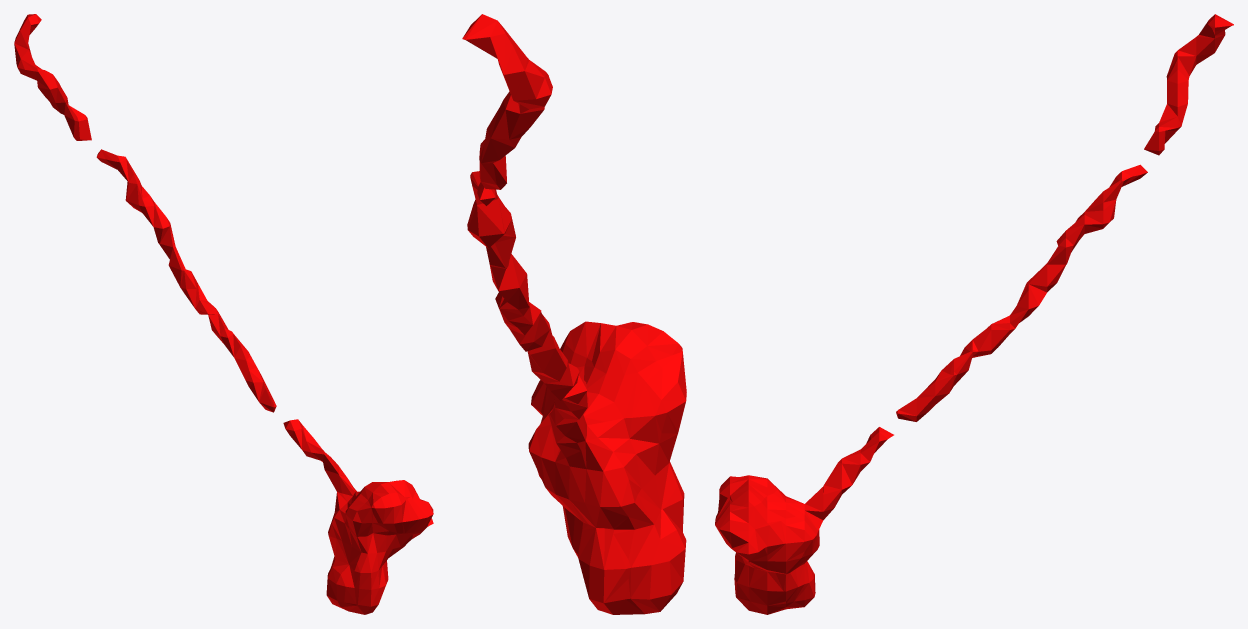
Rendered from pheA_coarse.dae.
3 views of the same model, side by side, from view 1: azimuth 30°, elevation 25°; view 2: azimuth 150°, elevation 25°; view 3: azimuth 270°, elevation 25° (orthographic). The views are drawn at different scales.
Parts seen in each view (by area): view 1: pheA; view 2: pheA; view 3: pheA.
Part boxes in pixels (x1,y1,x2,y2): pheA: [14, 14, 433, 614]; pheA: [462, 14, 686, 614]; pheA: [715, 14, 1233, 614].
Size of the model in its own units: 121 by 262 by 232.
